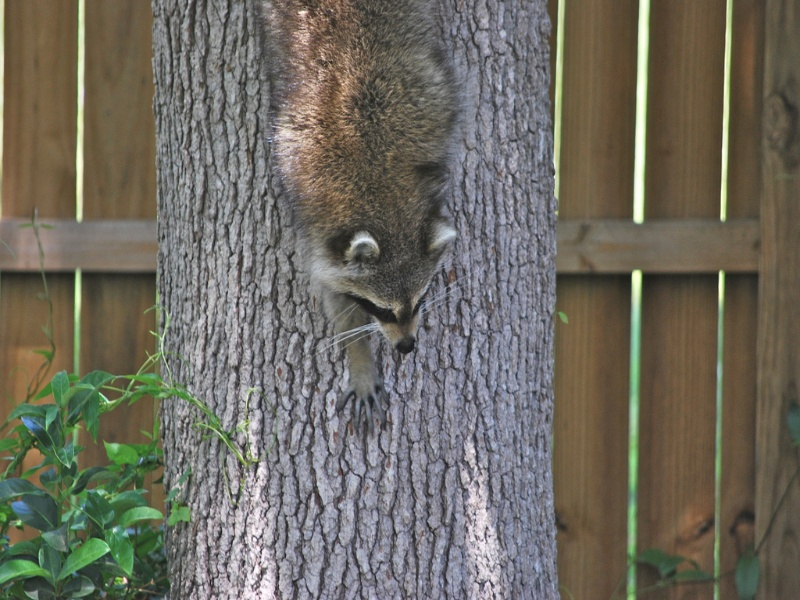raccoon: (248, 3, 467, 435)
